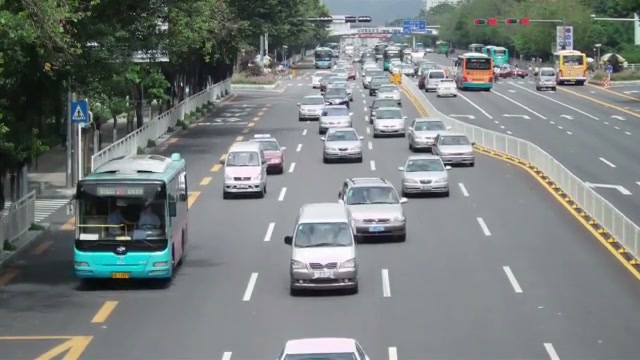bus: (72, 152, 190, 283), (455, 52, 494, 91), (553, 50, 589, 86), (481, 46, 511, 73)
car: (284, 202, 359, 295), (337, 177, 408, 243), (222, 144, 269, 199), (398, 154, 450, 198), (277, 338, 371, 359), (244, 136, 285, 174), (433, 133, 476, 168), (406, 118, 450, 152), (322, 127, 363, 163), (318, 105, 354, 136), (373, 106, 407, 138), (297, 94, 327, 121), (324, 84, 353, 106), (536, 67, 557, 91), (436, 80, 456, 98)
pedestrian: (138, 202, 163, 229), (106, 202, 126, 225)
truck: (554, 50, 589, 85), (536, 67, 557, 92)
